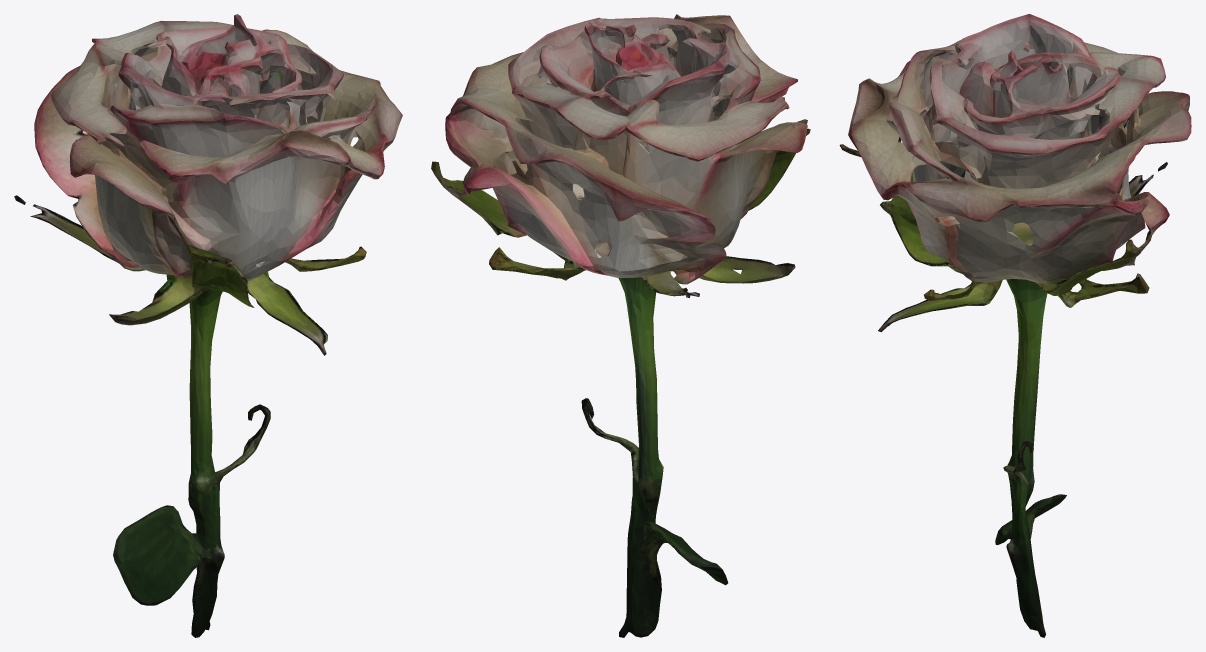
3 views of the same model, side by side, from view 1: azimuth 30°, elevation 25°; view 2: azimuth 150°, elevation 25°; view 3: azimuth 270°, elevation 25° (orthographic).
Visible parts, largest first — view 1: world; view 2: world; view 3: world.
Boxes of the visible parts, x1,y1,x2,y2 form: world: (14, 14, 402, 637); world: (431, 14, 810, 637); world: (839, 14, 1191, 637).
Size of the model in its own units: 0.5256 by 0.9585 by 0.5132.
Materials: 1 (1 with a texture image).
